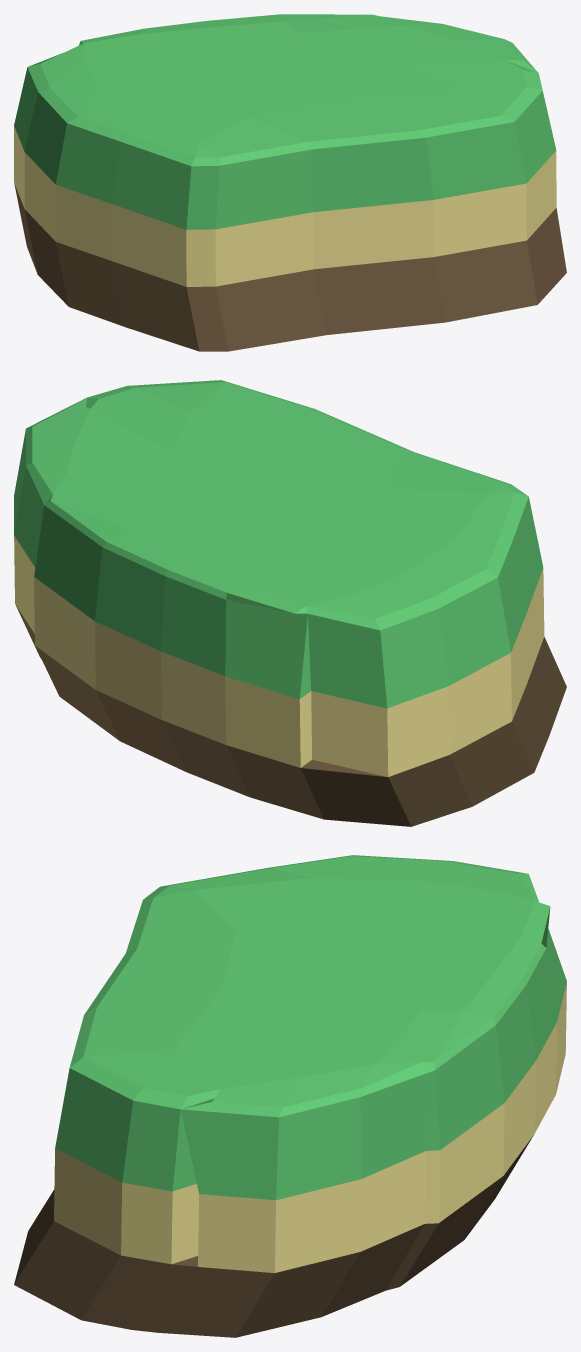
The model's file is Platform02 1.fbx.
3 views of the same model, one above another, from view 1: azimuth 30°, elevation 25°; view 2: azimuth 150°, elevation 25°; view 3: azimuth 270°, elevation 25° (orthographic). The views are drawn at different scales.
Parts seen in each view (by area): view 1: Plane.022; view 2: Plane.022; view 3: Plane.022.
Boxes of the visible parts, x1=… form: Plane.022: x1=14, y1=14, x2=566, y2=351; Plane.022: x1=14, y1=380, x2=566, y2=826; Plane.022: x1=14, y1=855, x2=566, y2=1337.
Bounding box in the file's own units: 723 × 279 × 609.
